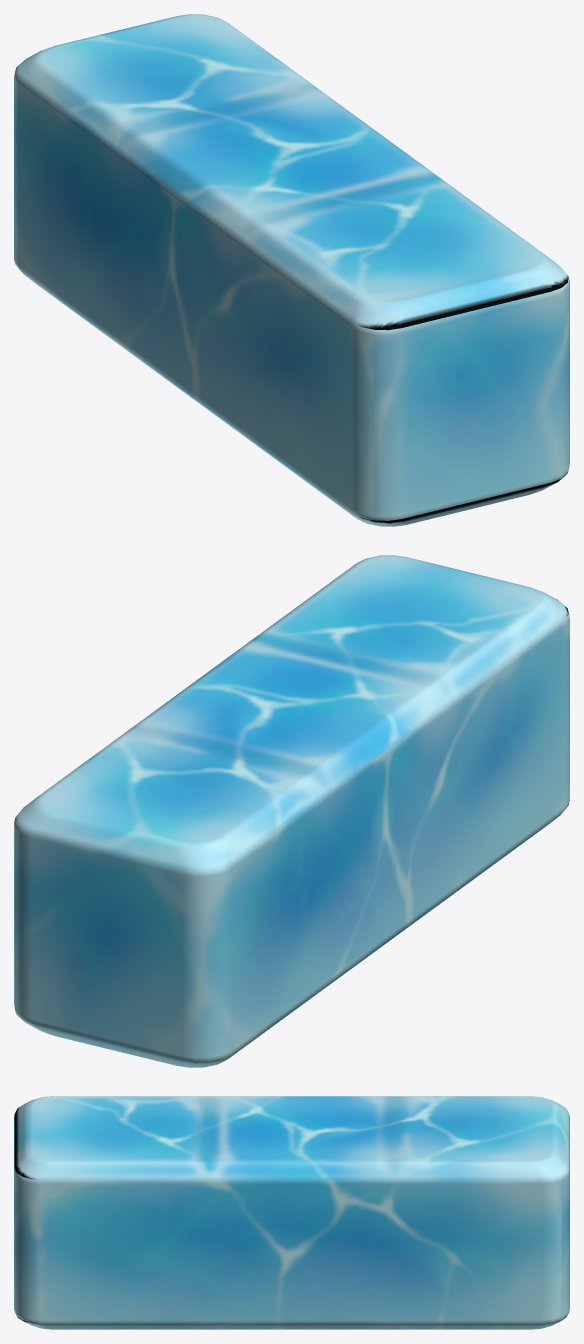
File: Ice_Block_07.fbx
3 renders of one model, top to bottom at view 1: azimuth 30°, elevation 25°; view 2: azimuth 150°, elevation 25°; view 3: azimuth 270°, elevation 25°, orthographic. The views are drawn at different scales.
Visible parts, largest first — view 1: Ice_Block_07; view 2: Ice_Block_07; view 3: Ice_Block_07.
Boxes of the visible parts, x1=… form: Ice_Block_07: x1=14, y1=14, x2=569, y2=526; Ice_Block_07: x1=14, y1=555, x2=569, y2=1067; Ice_Block_07: x1=14, y1=1096, x2=569, y2=1329.
Bounding box in the file's own units: 1 × 1 × 3.
1 material, 1 textured.
